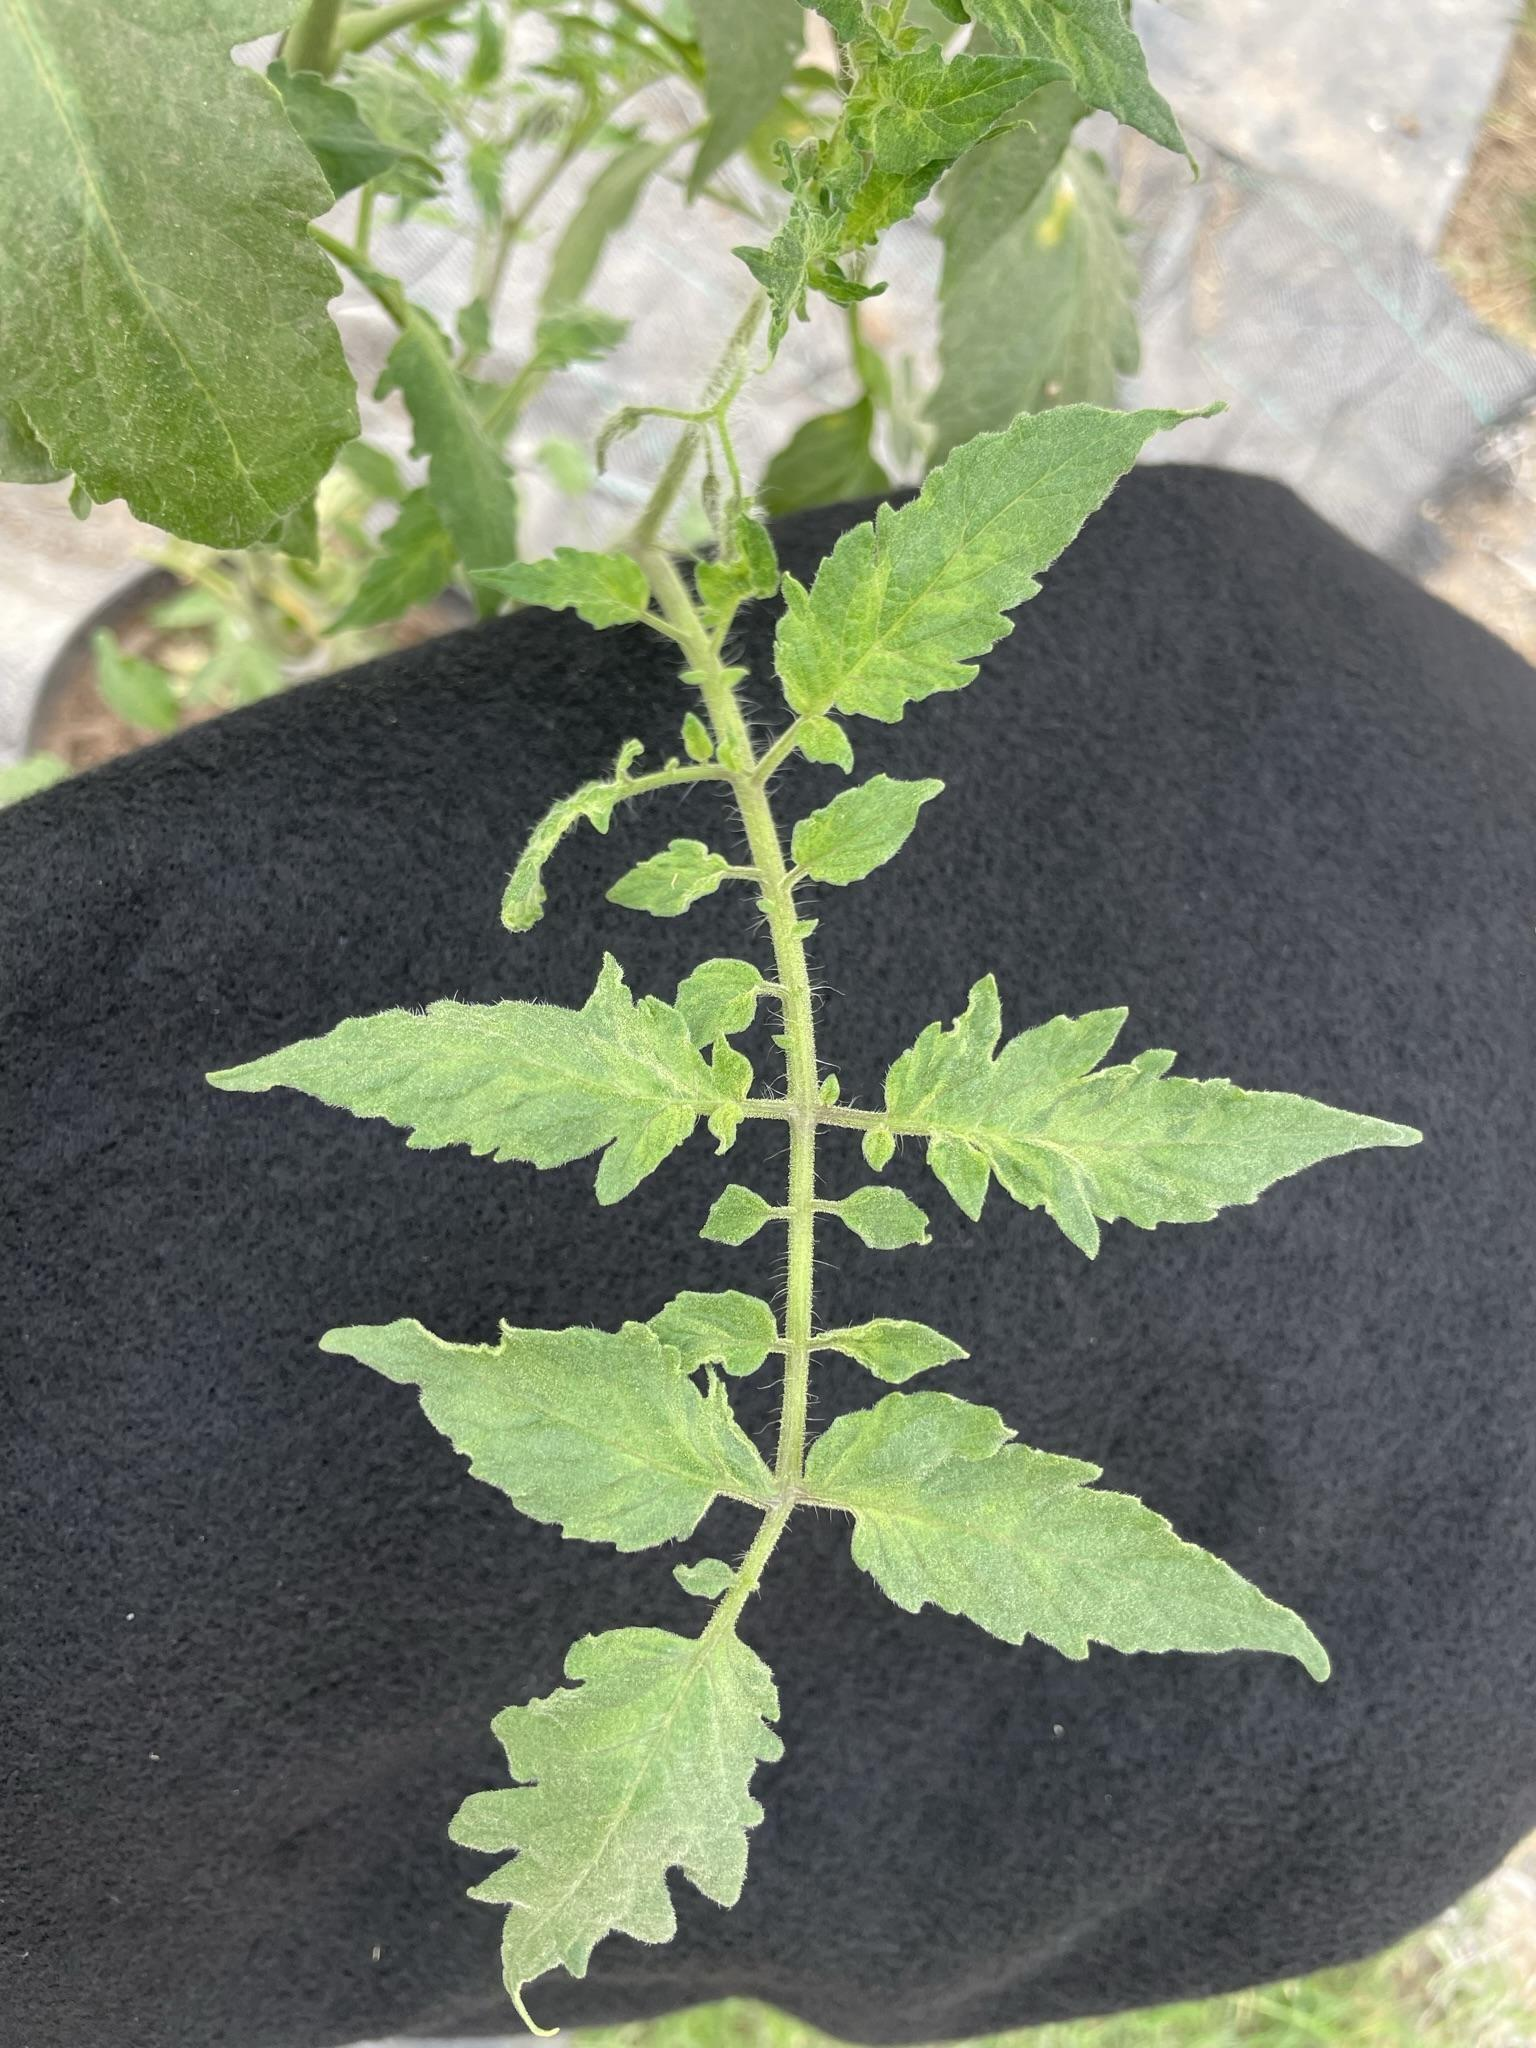Hoja rugoso: (766, 406, 1162, 845), (805, 1387, 1307, 1661), (449, 1624, 784, 2013), (210, 969, 713, 1208), (319, 1321, 771, 1551), (979, 1048, 1420, 1256), (884, 976, 1000, 1132), (792, 776, 944, 884), (476, 548, 649, 627), (649, 1292, 776, 1376), (812, 1321, 968, 1384), (608, 840, 728, 916)
Pedunculo rugoso: (684, 656, 836, 1632)
